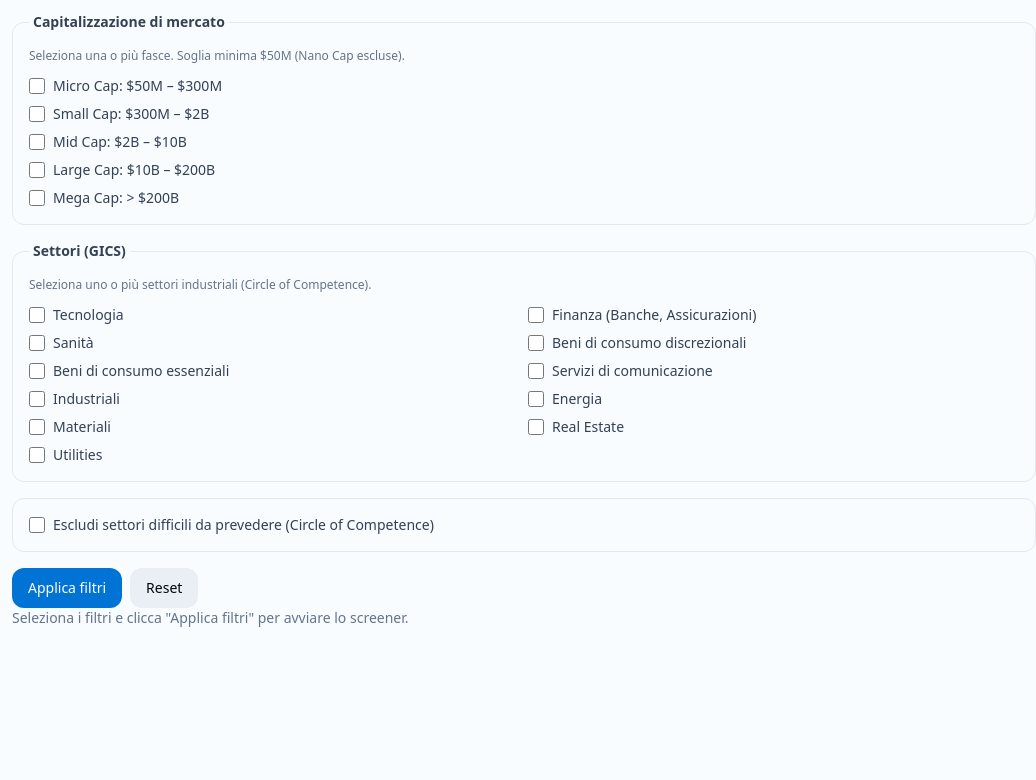
Test: ScreenerForm › risultato vuoto mostra "Nessun titolo soddisfa i criteri"
Click the button "Applica filtri".
click(67, 588)  # box left=12, top=568, right=122, bottom=608
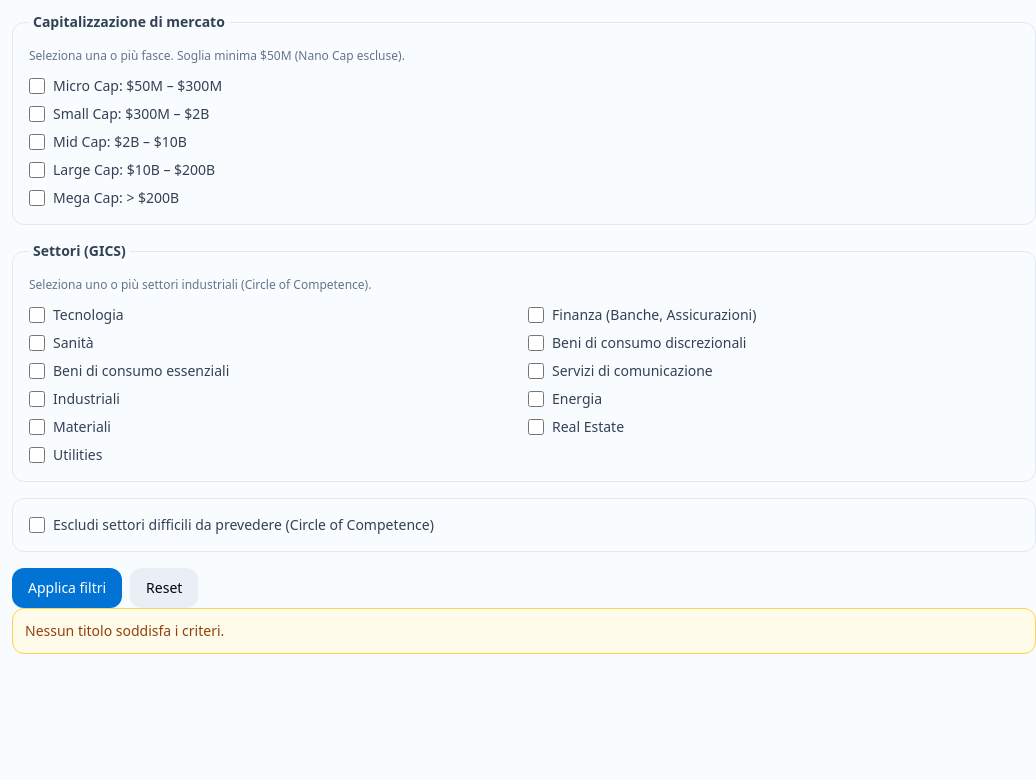
Check: the text "Nessun titolo soddisfa i criteri." is shown, box left=12, top=608, right=1035, bottom=654
